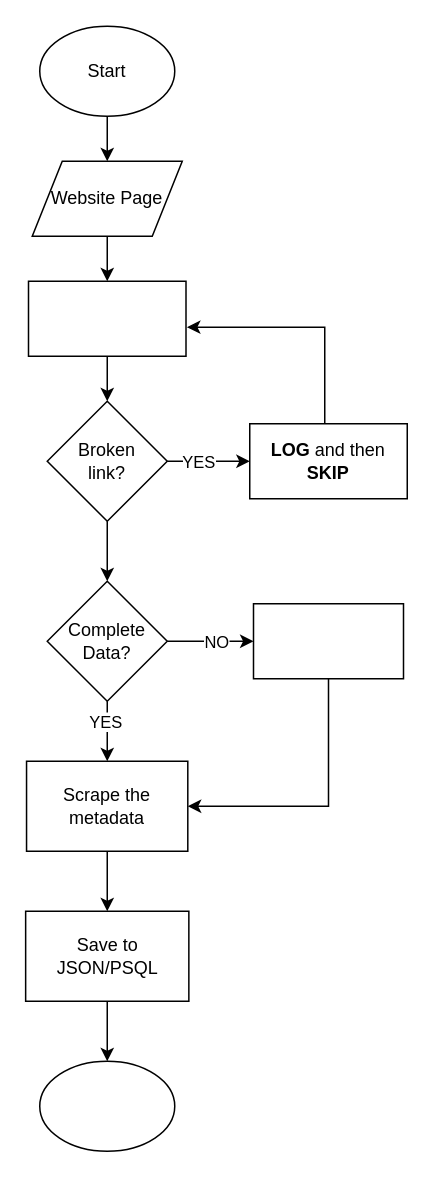
Some shapes in this 435 by 1178 pixel diagram are drawn without their labels. Each missing label, with the centre of its shape:
End: the point at 106,1105
NULL the value and keep the key: the point at 328,640
Read the website: the point at 106,318
